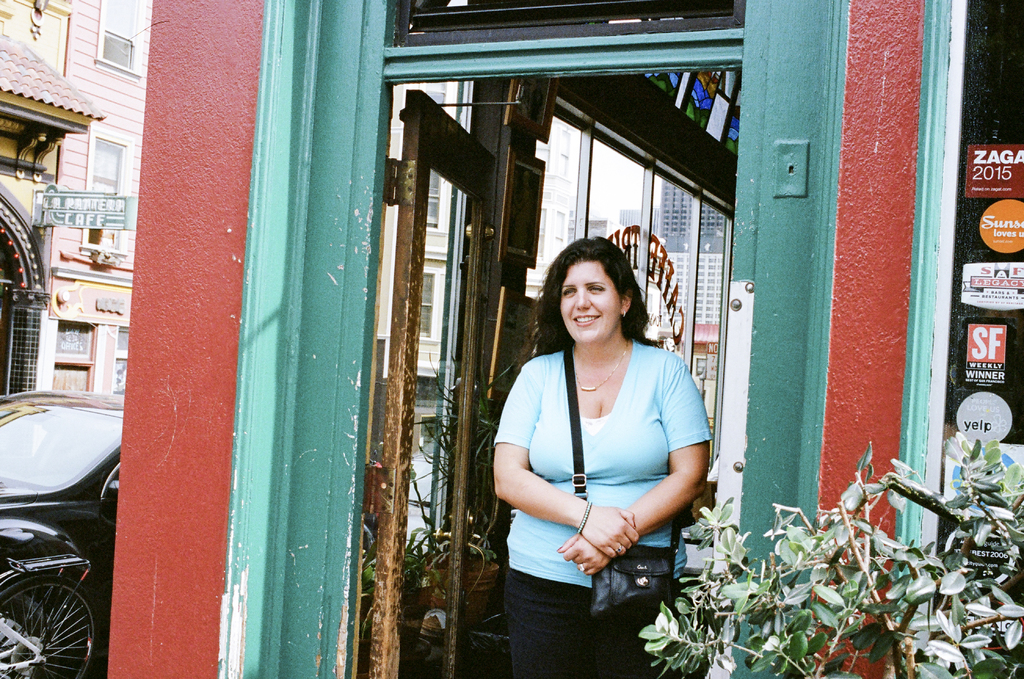door: (407, 120, 490, 679)
